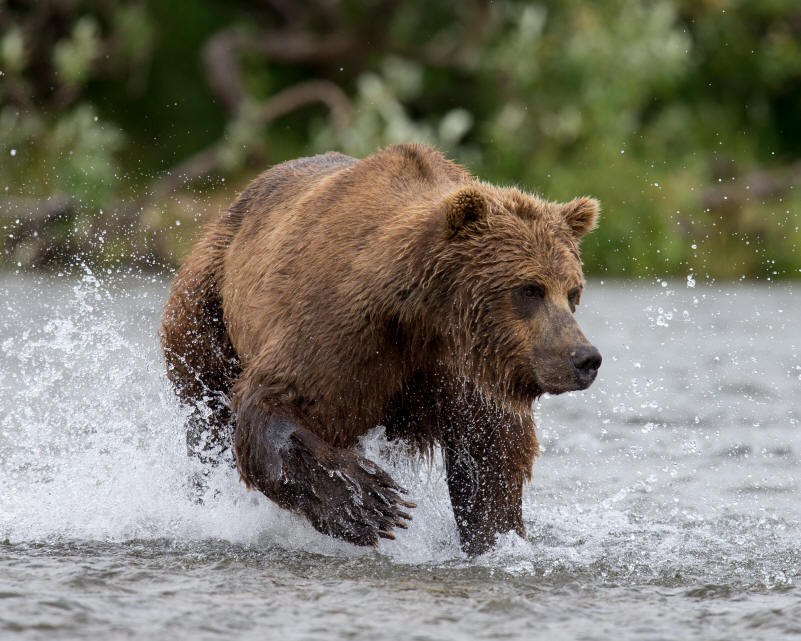bear: (433, 185, 614, 400)
